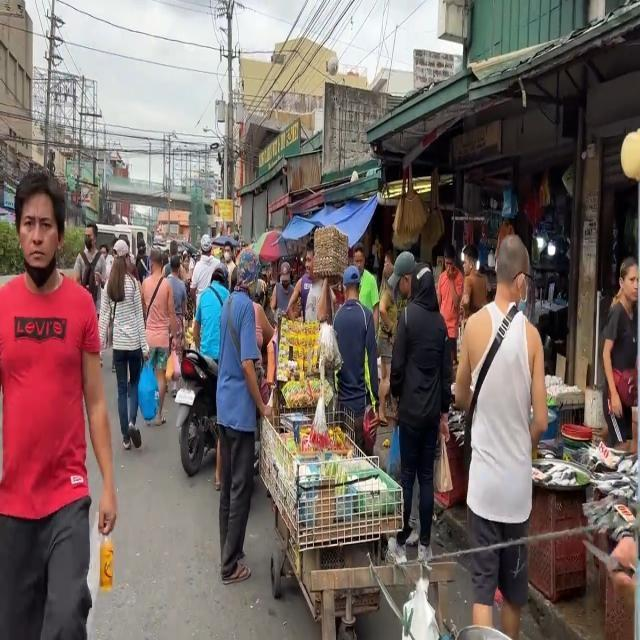hairnet: (16, 192, 58, 290)
